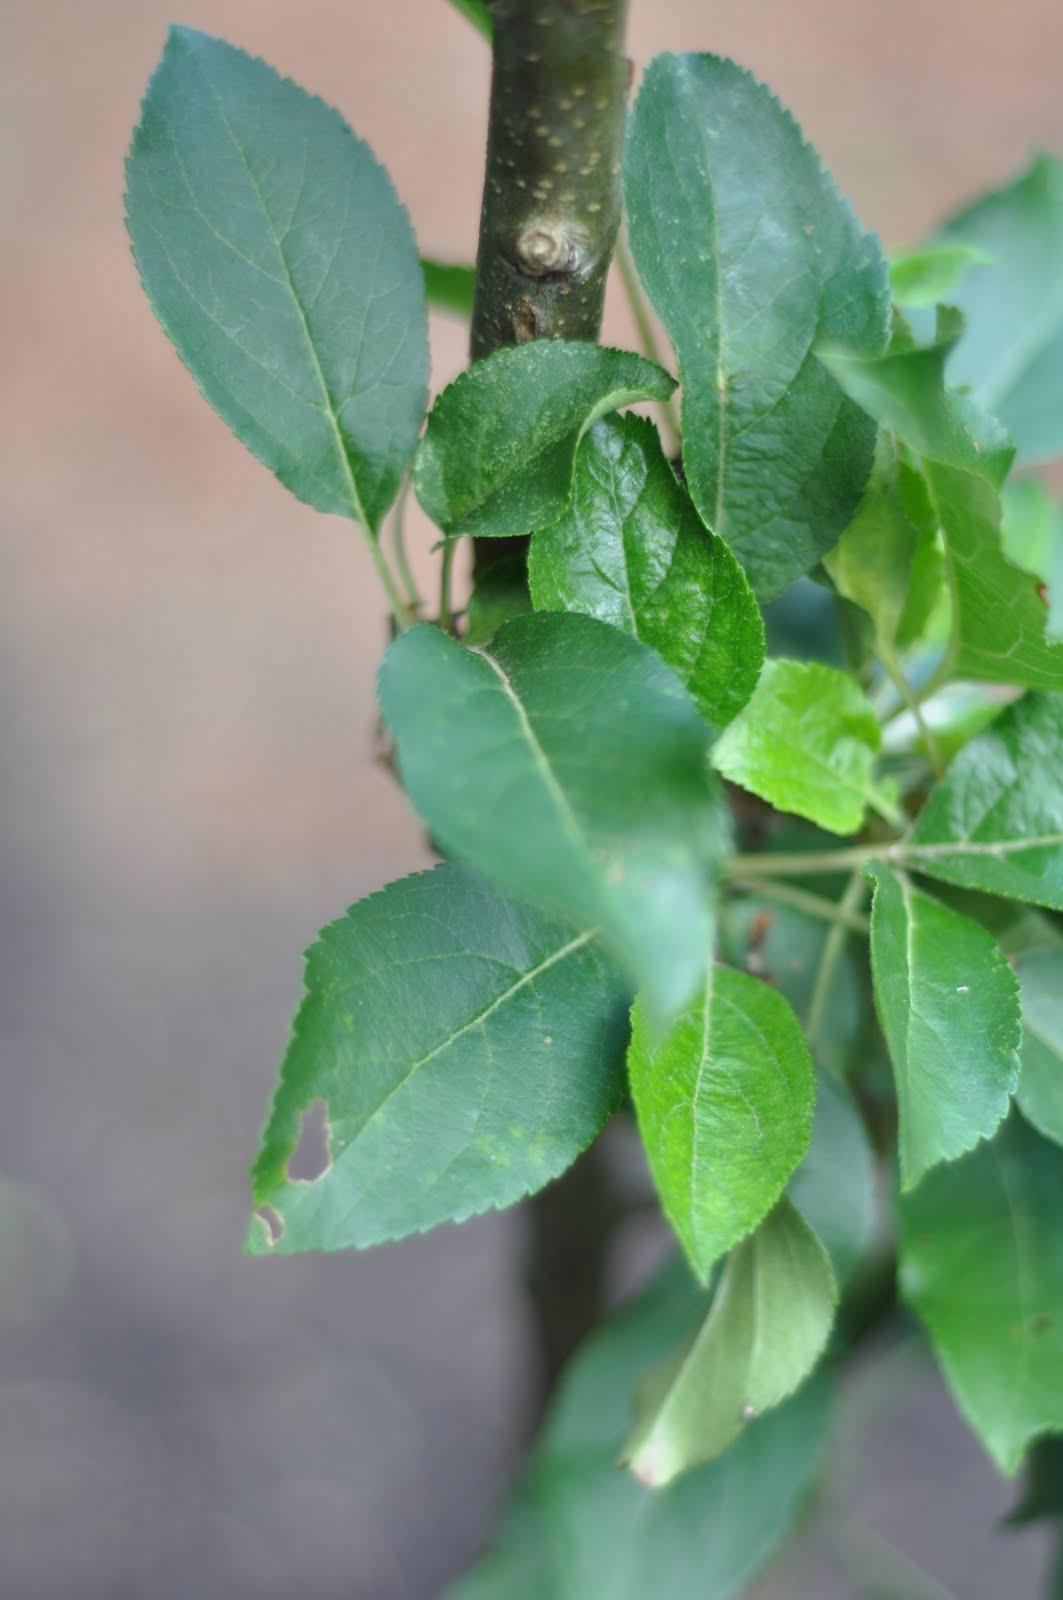Apple leaf: (107, 9, 462, 544), (231, 859, 664, 1285), (382, 599, 802, 1031), (591, 26, 881, 559), (611, 916, 821, 1309), (839, 829, 1044, 1207)
